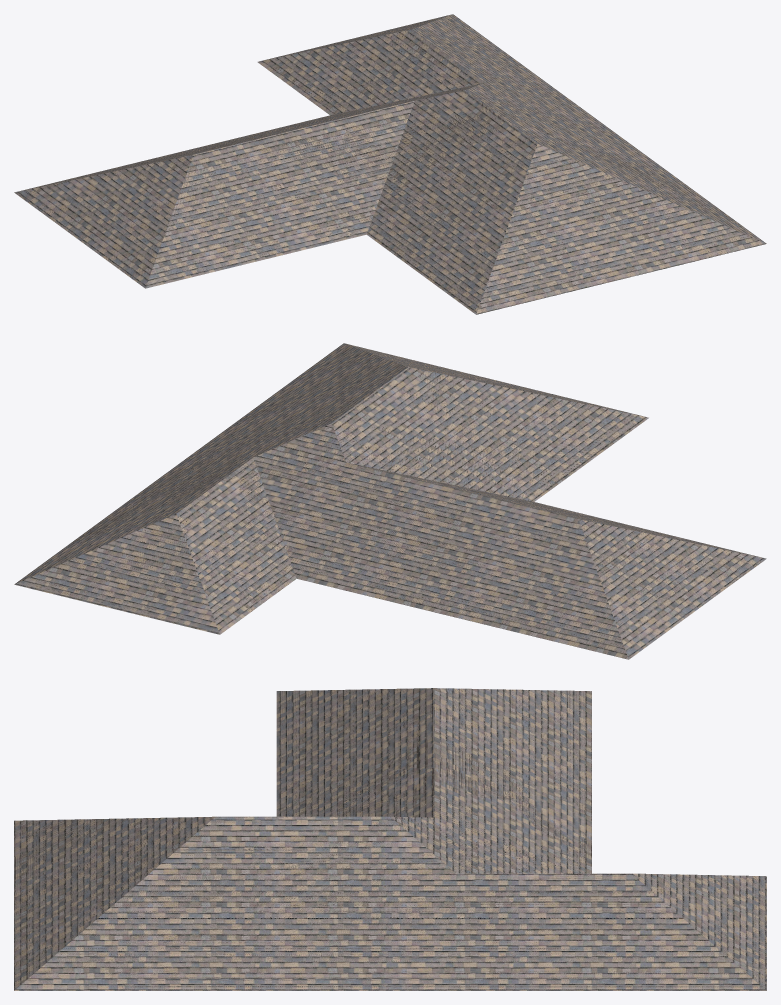
The model's file is telhado39a.dae.
3 renders of one model, top to bottom at view 1: azimuth 30°, elevation 25°; view 2: azimuth 150°, elevation 25°; view 3: azimuth 270°, elevation 25°, orthographic. The views are drawn at different scales.
Visible parts, largest first — view 1: SketchUp; view 2: SketchUp; view 3: SketchUp.
Boxes of the visible parts, <box> form: SketchUp: <box>14,14,766,314</box>; SketchUp: <box>14,343,766,659</box>; SketchUp: <box>14,688,766,990</box>.
Size of the model in its own units: 638 by 677 by 88.33.
3 materials, 2 textured.
